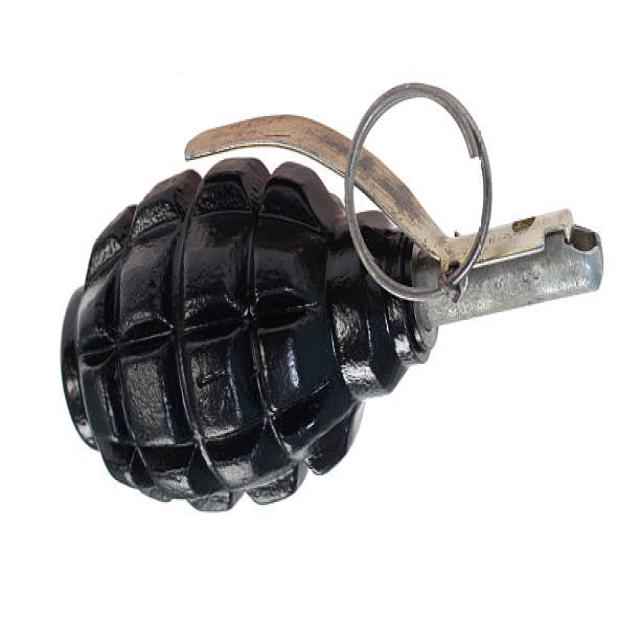grenade: (58, 75, 618, 522)
